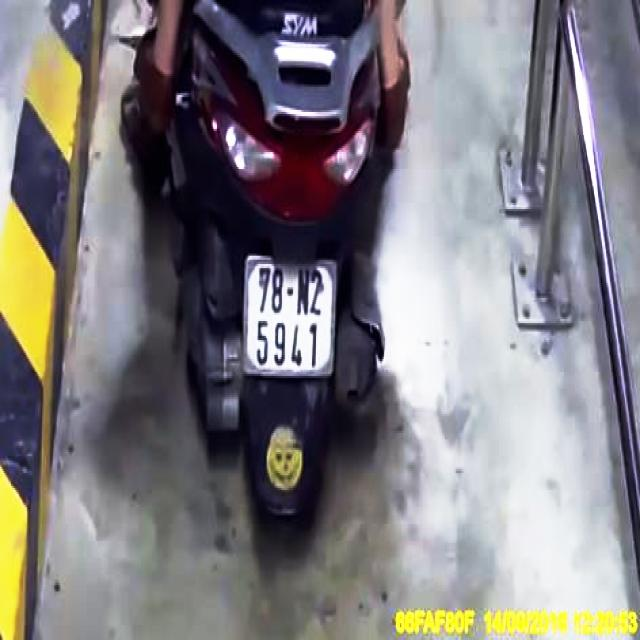license_plate: (242, 256, 340, 378)
